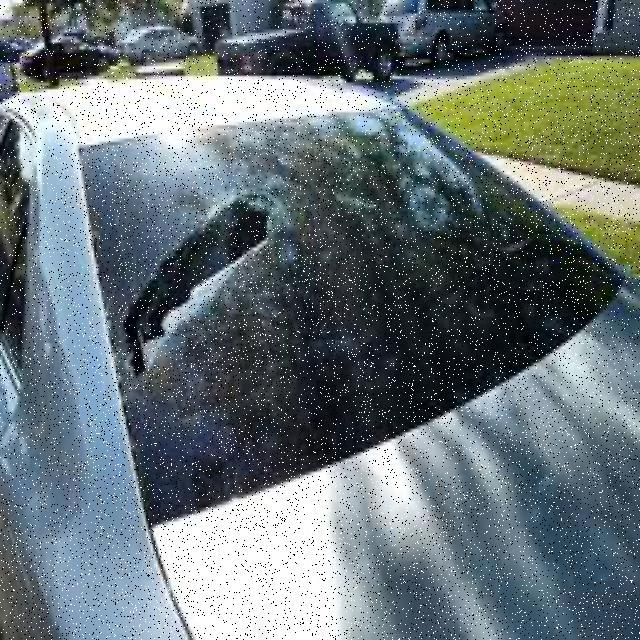Rear-windscreen-Damage: (54, 112, 630, 541)
